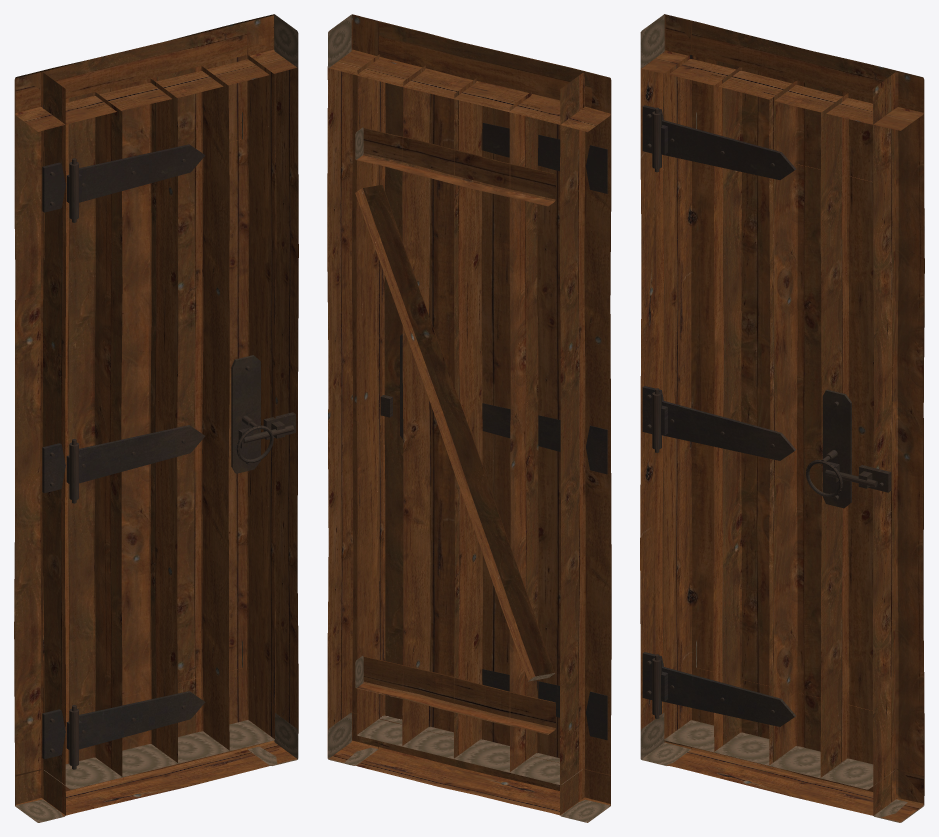
File: door-wood-v1-webp.glb
The picture shows the model from 3 angles, left to right: view 1: azimuth 30°, elevation 25°; view 2: azimuth 150°, elevation 25°; view 3: azimuth 330°, elevation 25°; orthographic projection.
Visible parts, largest first — view 1: architectural_plank, architectural_wood, architectural_iron, architectural_endgrain; view 2: architectural_wood, architectural_plank, architectural_endgrain, architectural_iron; view 3: architectural_plank, architectural_wood, architectural_iron, architectural_endgrain.
Boxes of the visible parts, box(x1,y1,x2,y2) form: architectural_plank: box(43, 55, 275, 776); architectural_wood: box(14, 14, 298, 816); architectural_iron: box(42, 144, 295, 769); architectural_endgrain: box(15, 14, 298, 822); architectural_wood: box(327, 14, 611, 822); architectural_plank: box(356, 54, 560, 771); architectural_endgrain: box(328, 14, 610, 822); architectural_iron: box(380, 123, 607, 740); architectural_plank: box(663, 55, 895, 777); architectural_wood: box(640, 14, 924, 821); architectural_iron: box(642, 105, 891, 726); architectural_endgrain: box(640, 14, 923, 822).
Bounding box in the file's own units: 0.7529 × 2 × 0.2434.
4 materials, 4 textured.
